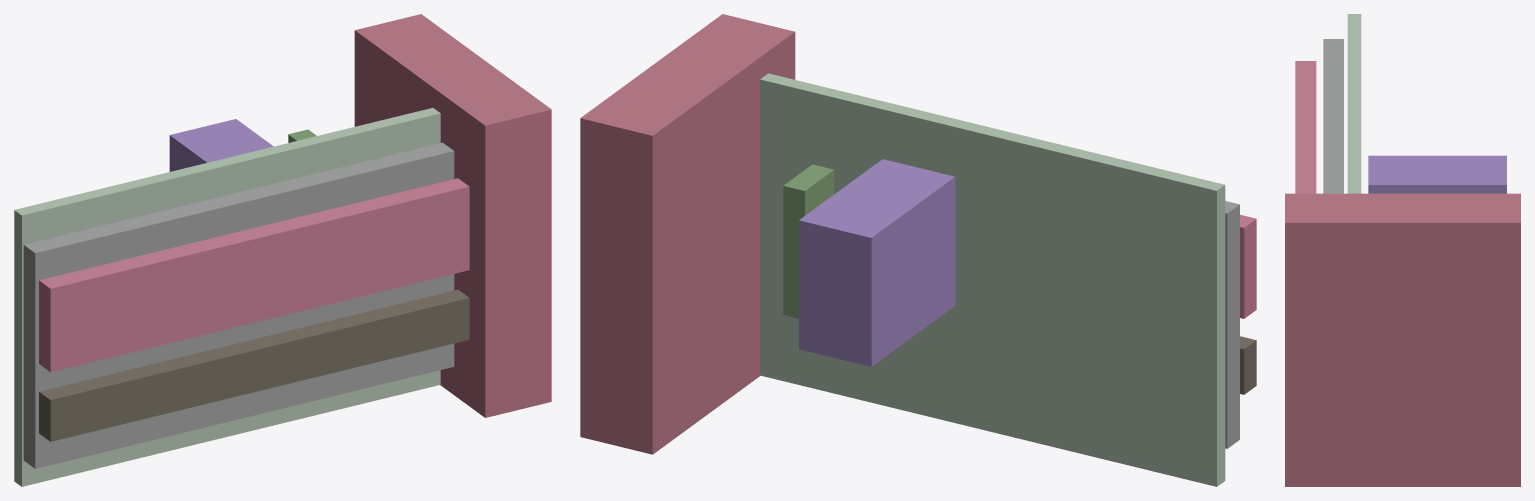
Rendered from 199511_pred.glb.
3 renders of one model, left to right at view 1: azimuth 30°, elevation 25°; view 2: azimuth 150°, elevation 25°; view 3: azimuth 270°, elevation 25°, orthographic. The views are drawn at different scales.
Visible parts, largest first — view 1: world; view 2: world; view 3: world.
Part boxes in pixels (x1,y1,x2,y2): world: (14,14,551,486); world: (580,14,1256,486); world: (1285,14,1520,486).
Size of the model in its own units: 7.45 by 4.2 by 3.4.
